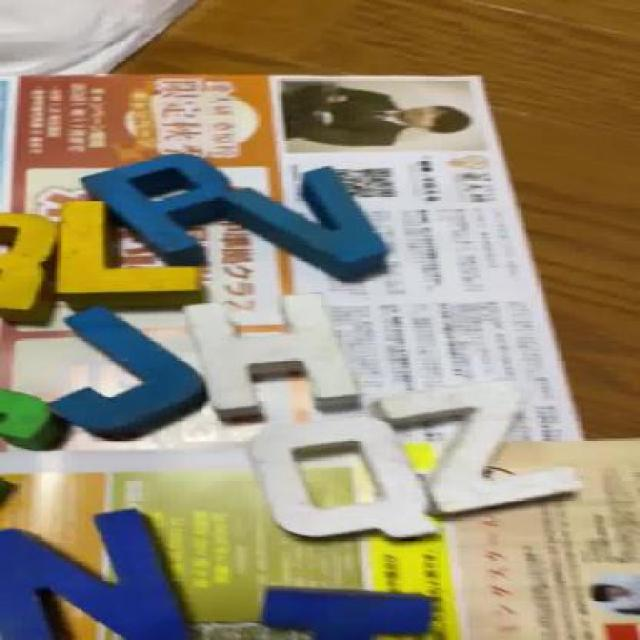H: (196, 288, 370, 415)
J: (61, 307, 208, 445)
L: (54, 194, 211, 309)
N: (0, 506, 212, 640)
P: (101, 150, 225, 264)
Q: (252, 415, 452, 551)
V: (240, 165, 391, 288)
Z: (375, 378, 580, 514)
